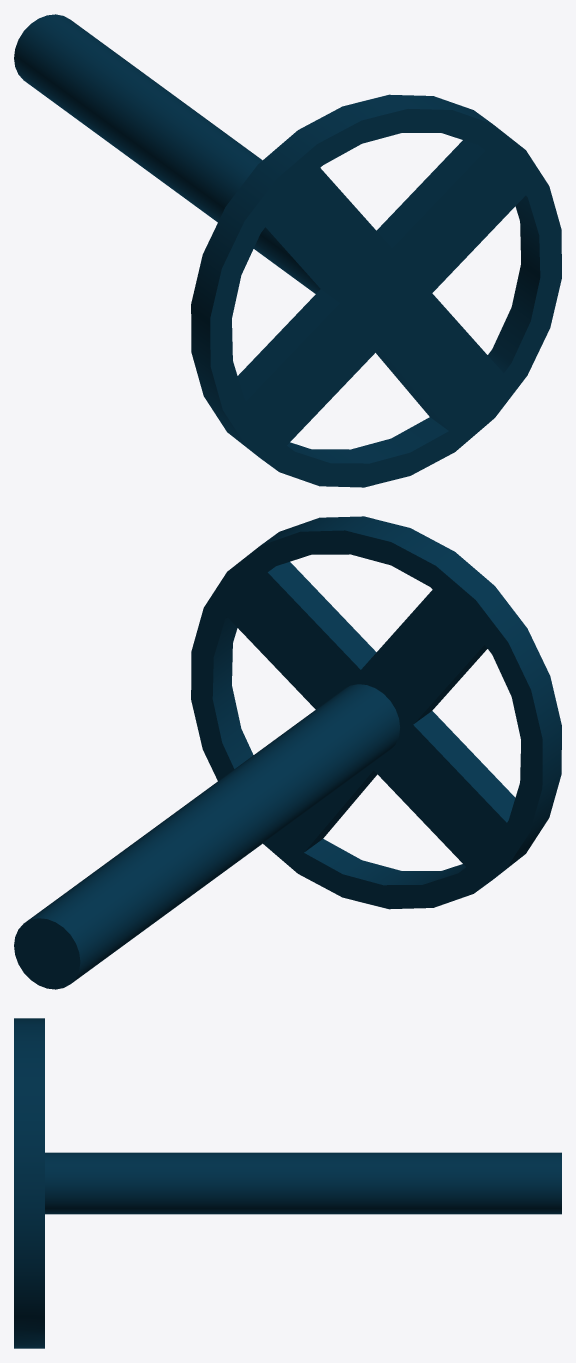
File: pipe_valve.dae
3 renders of one model, top to bottom at view 1: azimuth 30°, elevation 25°; view 2: azimuth 150°, elevation 25°; view 3: azimuth 270°, elevation 25°, orthographic. The views are drawn at different scales.
Visible parts, largest first — view 1: coords_ME_ID17_MA_material_27, coords_ME_ID3_MA_material_27, coords_ME_ID29_MA_material_27, coords_ME_ID35_MA_material_27, coords_ME_ID11_MA_material_27, coords_ME_ID23_MA_material_27; view 2: coords_ME_ID17_MA_material_27, coords_ME_ID3_MA_material_27, coords_ME_ID35_MA_material_27, coords_ME_ID11_MA_material_27, coords_ME_ID23_MA_material_27, coords_ME_ID29_MA_material_27; view 3: coords_ME_ID3_MA_material_27, coords_ME_ID17_MA_material_27.
Part boxes in pixels (x1,y1,x2,y2): coords_ME_ID17_MA_material_27: [191, 94, 561, 487]; coords_ME_ID3_MA_material_27: [14, 14, 320, 293]; coords_ME_ID29_MA_material_27: [488, 195, 540, 372]; coords_ME_ID35_MA_material_27: [237, 223, 339, 400]; coords_ME_ID11_MA_material_27: [287, 349, 448, 463]; coords_ME_ID23_MA_material_27: [376, 140, 484, 247]; coords_ME_ID17_MA_material_27: [191, 516, 561, 909]; coords_ME_ID3_MA_material_27: [14, 684, 399, 989]; coords_ME_ID35_MA_material_27: [413, 645, 515, 822]; coords_ME_ID11_MA_material_27: [304, 770, 465, 885]; coords_ME_ID23_MA_material_27: [268, 562, 376, 669]; coords_ME_ID29_MA_material_27: [212, 617, 253, 768]; coords_ME_ID3_MA_material_27: [45, 1152, 561, 1214]; coords_ME_ID17_MA_material_27: [14, 1018, 44, 1348].
Size of the model in its own units: 4.03 by 4.03 by 6.73.
